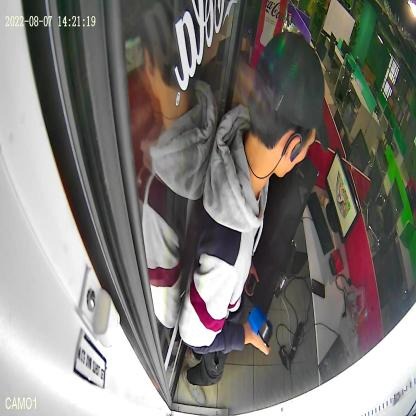blue: (248, 304, 274, 349)
